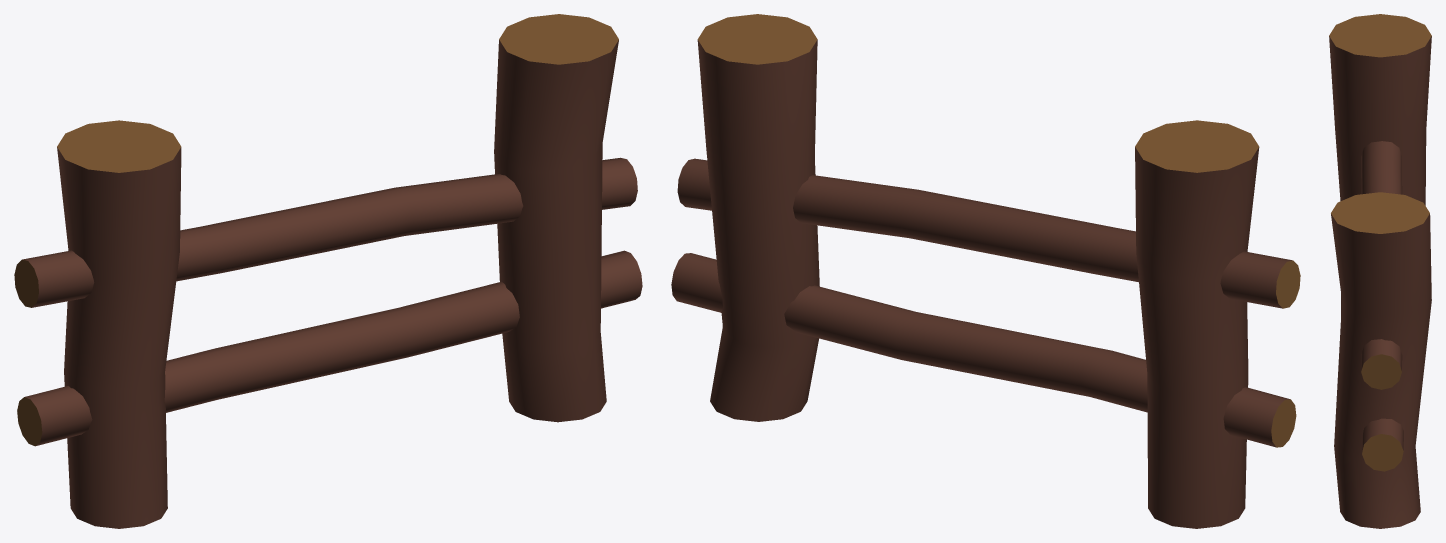
Rendered from WoodRoundFence_Damaged.fbx.
The picture shows the model from 3 angles, left to right: view 1: azimuth 30°, elevation 25°; view 2: azimuth 150°, elevation 25°; view 3: azimuth 270°, elevation 25°; orthographic projection. The views are drawn at different scales.
Visible parts, largest first — view 1: WoodRoundFence_Damaged; view 2: WoodRoundFence_Damaged; view 3: WoodRoundFence_Damaged.
Part boxes in pixels (x1=…): WoodRoundFence_Damaged: x1=14, y1=14, x2=642, y2=528; WoodRoundFence_Damaged: x1=671, y1=14, x2=1300, y2=528; WoodRoundFence_Damaged: x1=1329, y1=14, x2=1431, y2=528.
Bounding box in the file's own units: 304 × 174 × 54.2.
